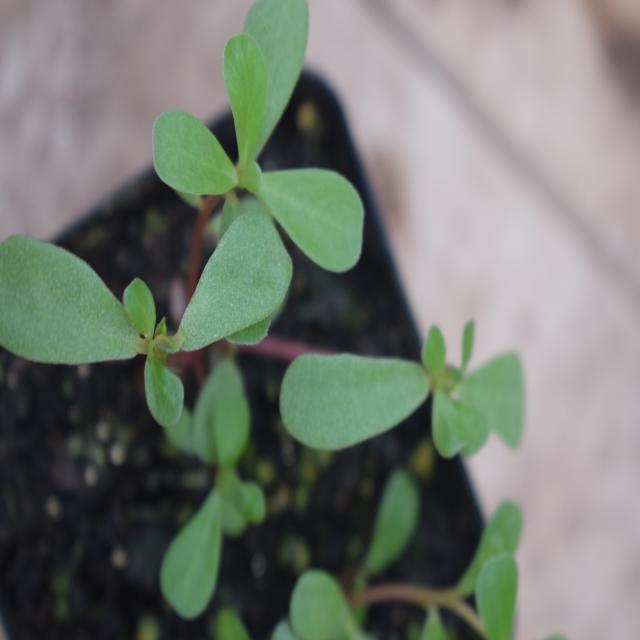purslane: (14, 10, 566, 553)
